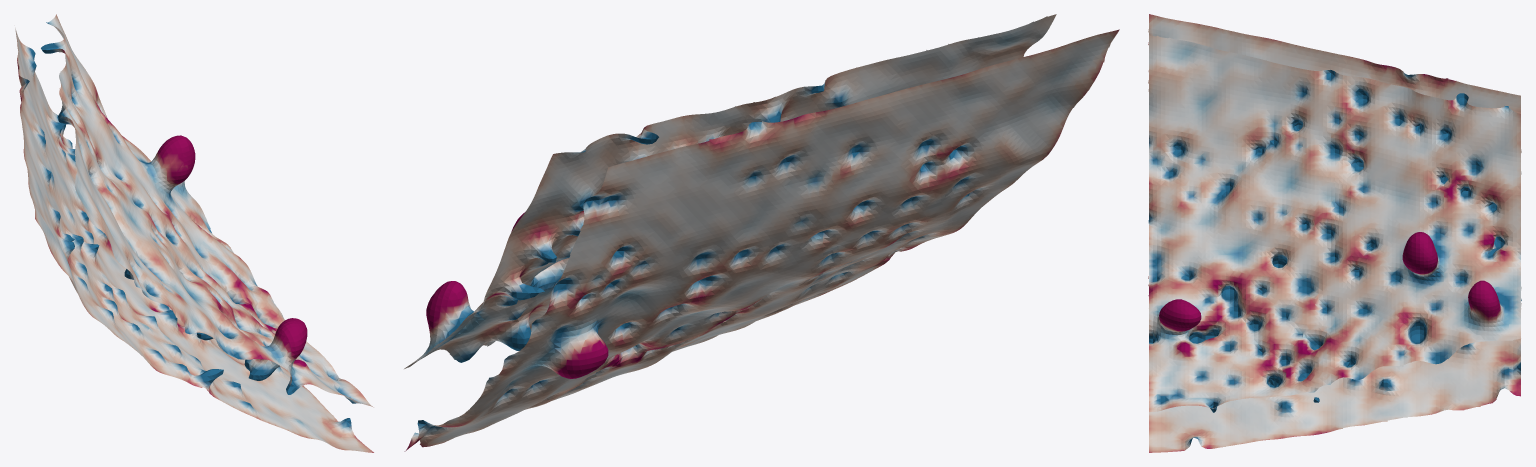
The model's file is crop1145_deviation.glb.
The picture shows the model from 3 angles, left to right: view 1: azimuth 30°, elevation 25°; view 2: azimuth 150°, elevation 25°; view 3: azimuth 270°, elevation 25°; orthographic projection. The views are drawn at different scales.
Parts seen in each view (by area): view 1: world; view 2: world; view 3: world.
Boxes of the visible parts, bbox=[...] form: world: bbox=[15, 14, 373, 452]; world: bbox=[404, 14, 1119, 451]; world: bbox=[1148, 14, 1521, 452].
Size of the model in its own units: 1415 by 1263 by 1479.
